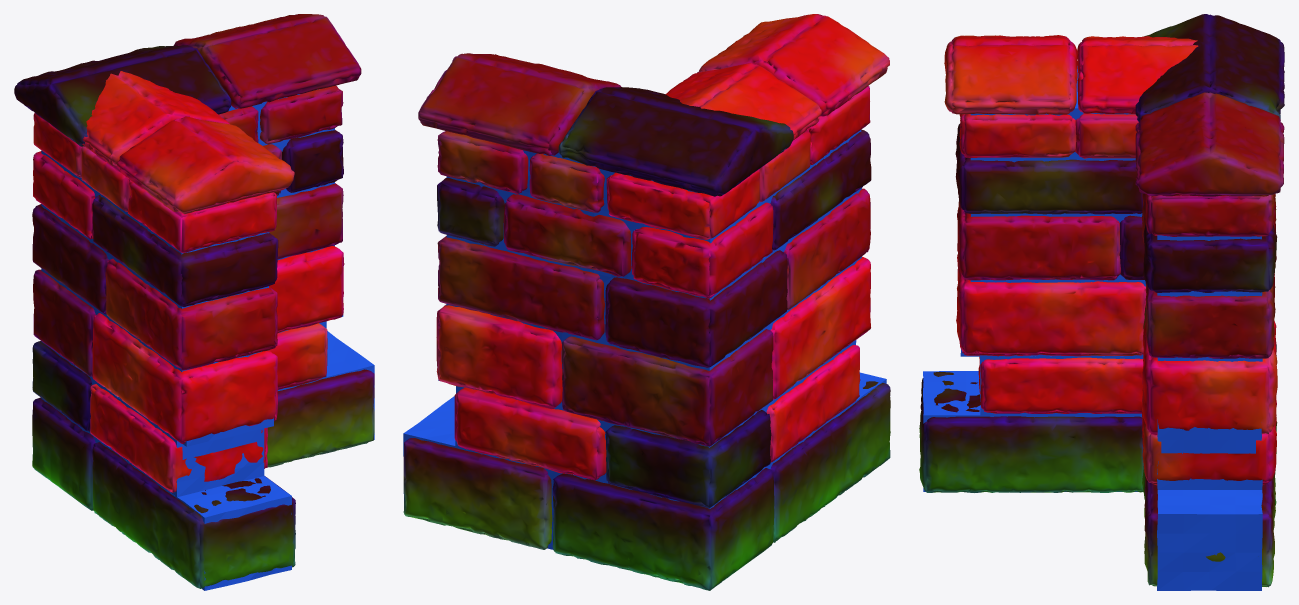
Rendered from SM_MerlonCorner488.fbx.
3 views of the same model, side by side, from view 1: azimuth 30°, elevation 25°; view 2: azimuth 150°, elevation 25°; view 3: azimuth 270°, elevation 25° (orthographic). The views are drawn at different scales.
Visible parts, largest first — view 1: SM_MerlonCorner488; view 2: SM_MerlonCorner488; view 3: SM_MerlonCorner488.
Boxes of the visible parts, left/top/right/bottom form: SM_MerlonCorner488: left=14, top=14, right=374, bottom=590; SM_MerlonCorner488: left=403, top=14, right=890, bottom=590; SM_MerlonCorner488: left=919, top=14, right=1284, bottom=590.
Bounding box in the file's own units: 147 × 190 × 147.
